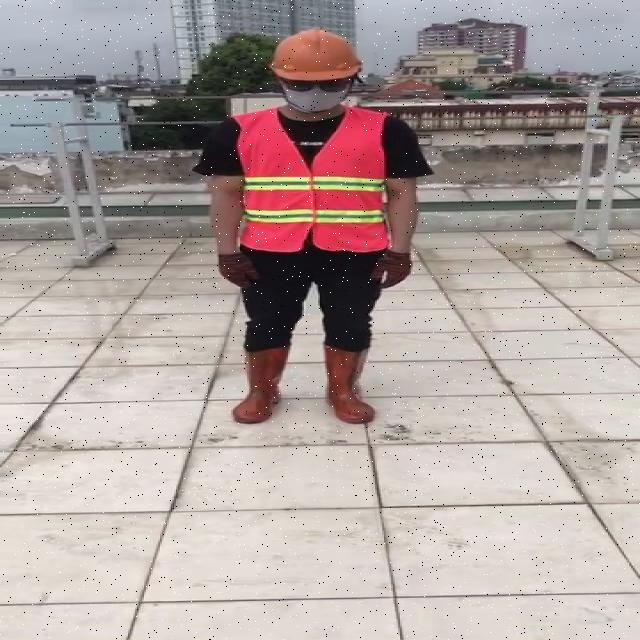Hard_hat: (263, 26, 365, 88)
Vest: (235, 102, 391, 250)
